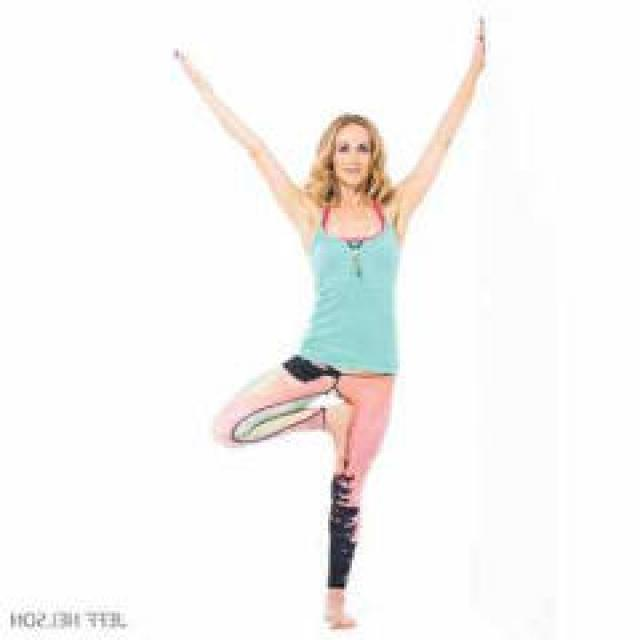yoga-pose tree: (162, 18, 498, 632)
